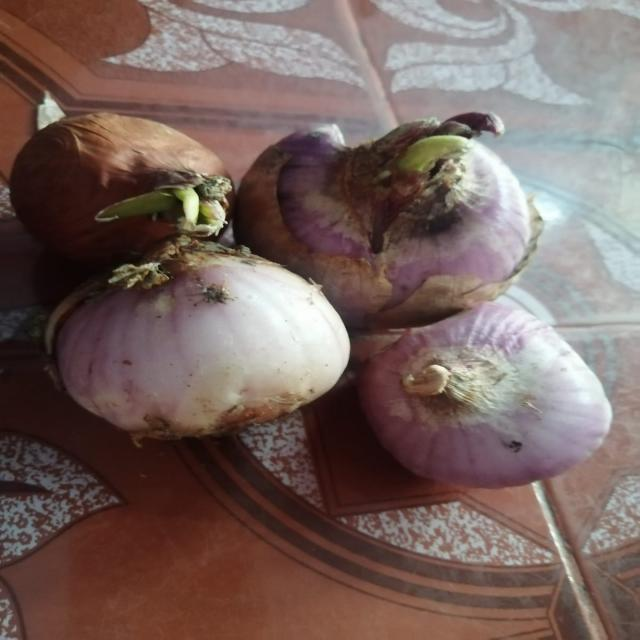rotten: (138, 410, 282, 448)
sprouting: (103, 184, 225, 234), (388, 128, 471, 192)
